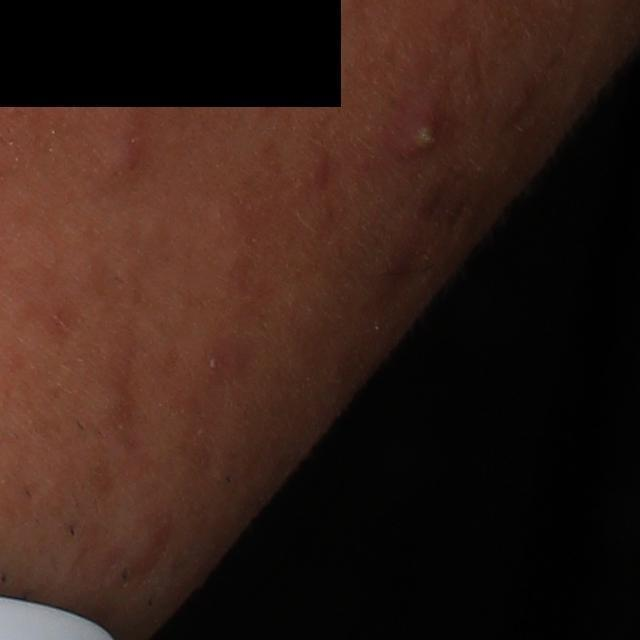pustule: (383, 97, 454, 170)
